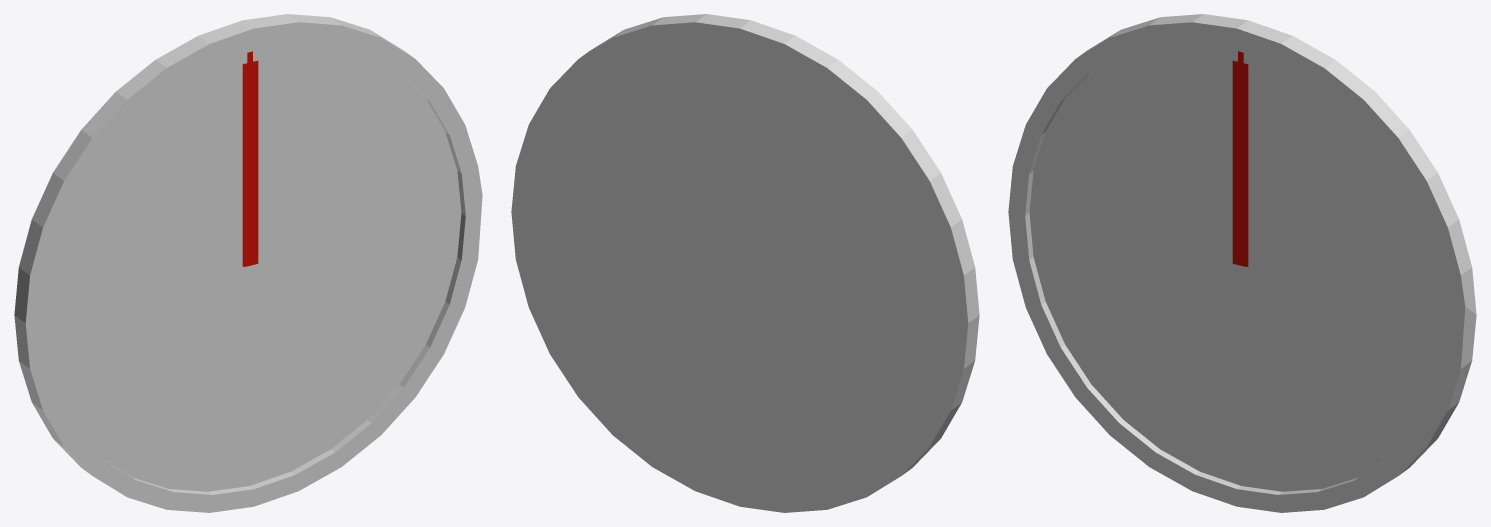
File: clock.fbx
3 views of the same model, side by side, from view 1: azimuth 30°, elevation 25°; view 2: azimuth 150°, elevation 25°; view 3: azimuth 330°, elevation 25° (orthographic).
Parts seen in each view (by area): view 1: Clock, Hours, Minutes; view 2: Clock; view 3: Clock, Hours, Minutes.
Boxes of the visible parts, box(x1,y1,x2,y2) form: Clock: box(14, 14, 482, 512); Hours: box(244, 92, 257, 266); Minutes: box(242, 60, 258, 266); Clock: box(511, 14, 979, 512); Clock: box(1008, 14, 1476, 512); Hours: box(1233, 92, 1246, 266); Minutes: box(1232, 60, 1248, 266).
Bounding box in the file's own units: 200 × 200 × 8.56.
